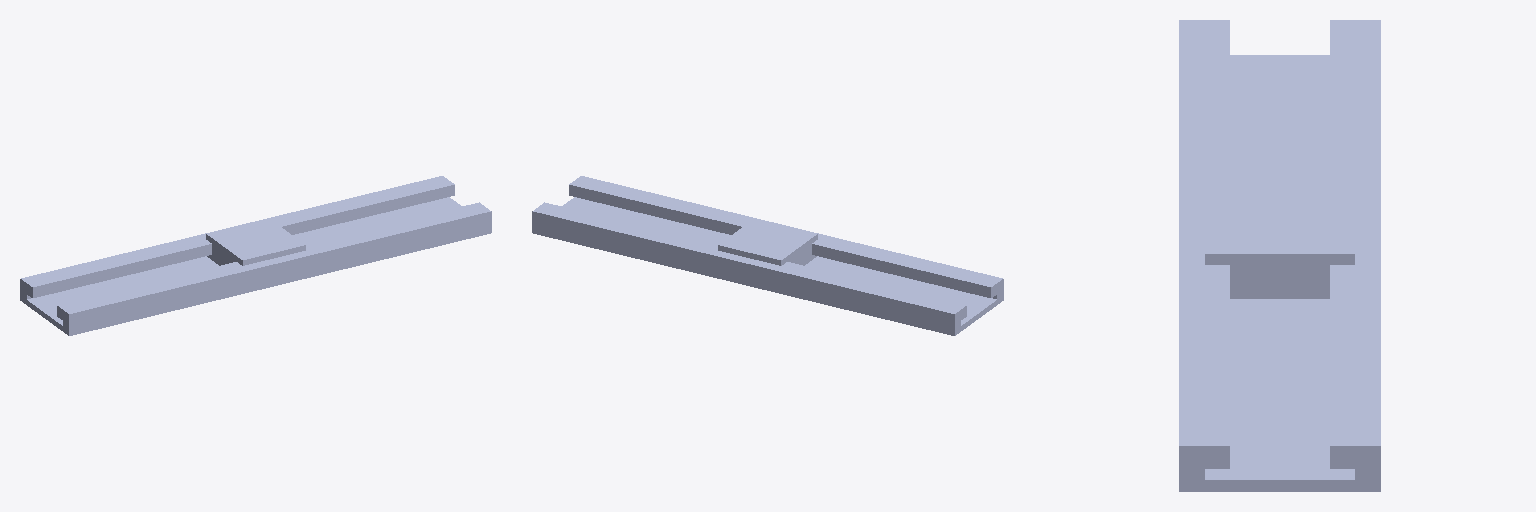
URDF robot description (ur5e_robot):
<?xml version="1.0" ?>
<!-- =================================================================================== -->
<!-- |    This document was autogenerated by xacro from ur_description/urdf/ur5e.xacro | -->
<!-- |    EDITING THIS FILE BY HAND IS NOT RECOMMENDED                                 | -->
<!-- =================================================================================== -->
<robot name="ur5e_robot">
  <!--
    Base UR robot series xacro macro.

    NOTE: this is NOT a URDF. It cannot directly be loaded by consumers
    expecting a flattened '.urdf' file. See the top-level '.xacro' for that
    (but note: that .xacro must still be processed by the xacro command).

    For use in '.launch' files: use one of the 'load_urX.launch' convenience
    launch files.

    This file models the base kinematic chain of a UR robot, which then gets
    parameterised by various configuration files to convert it into a UR3(e),
    UR5(e), UR10(e) or UR16e.

    NOTE: the default kinematic parameters (ie: link lengths, frame locations,
    offets, etc) do not correspond to any particular robot. They are defaults
    only. There WILL be non-zero offsets between the Forward Kinematics results
    in TF (ie: robot_state_publisher) and the values reported by the Teach
    Pendant.

    For accurate (and robot-specific) transforms, the 'kinematics_parameters_file'
    parameter MUST point to a .yaml file containing the appropriate values for
    the targetted robot.

    If using the UniversalRobots/Universal_Robots_ROS_Driver, follow the steps
    described in the readme of that repository to extract the kinematic
    calibration from the controller and generate the required .yaml file.

    Main author of the migration to yaml configs: [author].

    Contributors to previous versions (in no particular order):

     - [author]
     - [author]
     - [author]
     - [author]
     - [author]
     - [author]
     - [author]
     - [author]
     - [author]
     - [author]
     - [author]
     - [author]
     - [author]
     - [author]
     - [author]
     - [author]
     - [author]
  -->
  <!--
    NOTE: the macro defined in this file is NOT part of the public API of this
          package. Users CANNOT rely on this file being available, or stored in
          this location. Nor can they rely on the existence of the macro.
  -->
  <transmission name="shoulder_pan_trans">
    <type>transmission_interface/SimpleTransmission</type>
    <joint name="shoulder_pan_joint">
      <hardwareInterface>hardware_interface/PositionJointInterface</hardwareInterface>
    </joint>
    <actuator name="shoulder_pan_motor">
      <mechanicalReduction>1</mechanicalReduction>
    </actuator>
  </transmission>
  <transmission name="shoulder_lift_trans">
    <type>transmission_interface/SimpleTransmission</type>
    <joint name="shoulder_lift_joint">
      <hardwareInterface>hardware_interface/PositionJointInterface</hardwareInterface>
    </joint>
    <actuator name="shoulder_lift_motor">
      <mechanicalReduction>1</mechanicalReduction>
    </actuator>
  </transmission>
  <transmission name="elbow_trans">
    <type>transmission_interface/SimpleTransmission</type>
    <joint name="elbow_joint">
      <hardwareInterface>hardware_interface/PositionJointInterface</hardwareInterface>
    </joint>
    <actuator name="elbow_motor">
      <mechanicalReduction>1</mechanicalReduction>
    </actuator>
  </transmission>
  <transmission name="wrist_1_trans">
    <type>transmission_interface/SimpleTransmission</type>
    <joint name="wrist_1_joint">
      <hardwareInterface>hardware_interface/PositionJointInterface</hardwareInterface>
    </joint>
    <actuator name="wrist_1_motor">
      <mechanicalReduction>1</mechanicalReduction>
    </actuator>
  </transmission>
  <transmission name="wrist_2_trans">
    <type>transmission_interface/SimpleTransmission</type>
    <joint name="wrist_2_joint">
      <hardwareInterface>hardware_interface/PositionJointInterface</hardwareInterface>
    </joint>
    <actuator name="wrist_2_motor">
      <mechanicalReduction>1</mechanicalReduction>
    </actuator>
  </transmission>
  <transmission name="wrist_3_trans">
    <type>transmission_interface/SimpleTransmission</type>
    <joint name="wrist_3_joint">
      <hardwareInterface>hardware_interface/PositionJointInterface</hardwareInterface>
    </joint>
    <actuator name="wrist_3_motor">
      <mechanicalReduction>1</mechanicalReduction>
    </actuator>
  </transmission>
  
  <!-- Add transmission for base_x joint -->
  <transmission name="base_x_trans">
    <type>transmission_interface/SimpleTransmission</type>
    <joint name="base_x">
      <hardwareInterface>hardware_interface/PositionJointInterface</hardwareInterface>
    </joint>
    <actuator name="base_x_motor">
      <mechanicalReduction>1</mechanicalReduction>
    </actuator>
  </transmission>

  <!-- links: main serial chain -->
  <link name="base_link"/>
  <link name="bs_link">
    <inertial>
      <origin rpy="0 0 0" xyz="1.1102E-16 2.7756E-16 0.043056"/>
      <mass value="45"/>
      <inertia ixx="0.9322" ixy="-1.4174E-16" ixz="5.421E-17" iyy="15.045" iyz="-3.9613E-16" izz="15.888"/>
    </inertial>
    <visual>
      <origin rpy="0 0 0" xyz="0 0 -0.125"/>
      <geometry>
        <mesh filename="meshes/gantry/bs_link.STL"/>
      </geometry>
      <material name="">
        <color rgba="0.79216 0.81961 0.93333 1"/>
      </material>
    </visual>
    <collision>
      <origin rpy="0 0 0" xyz="0 0 -0.125"/>
      <geometry>
        <mesh filename="meshes/gantry/bs_link.STL"/>
      </geometry>
    </collision>
  </link>
  <link name="base_link_x">
    <inertial>
      <origin rpy="0 0 0" xyz="-1.1102E-16 0 -0.05"/>
      <mass value="7.5"/>
      <inertia ixx="0.050938" ixy="-2.7586E-18" ixz="-2.0526E-18" iyy="0.063438" iyz="4.5831E-18" izz="0.1"/>
    </inertial>
    <visual>
      <origin rpy="0 0 0" xyz="0 0 0"/>
      <geometry>
        <mesh filename="meshes/gantry/linear_rail.STL"/>
      </geometry>
      <material name="">
        <color rgba="0.79216 0.81961 0.93333 1"/>
      </material>
    </visual>
    <collision>
      <origin rpy="0 0 0" xyz="0 0 0"/>
      <geometry>
        <mesh filename="meshes/gantry/linear_rail.STL"/>
      </geometry>
    </collision>
  </link>
  <link name="base_link_inertia">
    <visual>
      <origin rpy="0 0 3.141592653589793" xyz="0 0 0"/>
      <geometry>
        <mesh filename="meshes/ur5e/visual/base.dae"/>
      </geometry>
      <material name="LightGrey">
        <color rgba="0.7 0.7 0.7 1.0"/>
      </material>
    </visual>
    <collision>
      <origin rpy="0 0 3.141592653589793" xyz="0 0 0"/>
      <geometry>
        <mesh filename="meshes/ur5e/collision/base.stl"/>
      </geometry>
    </collision>
    <inertial>
      <mass value="4.0"/>
      <origin rpy="0 0 0" xyz="0 0 0"/>
      <inertia ixx="0.00443333156" ixy="0.0" ixz="0.0" iyy="0.00443333156" iyz="0.0" izz="0.0072"/>
    </inertial>
  </link>
  <link name="shoulder_link">
    <visual>
      <origin rpy="0 0 3.141592653589793" xyz="0 0 0"/>
      <geometry>
        <mesh filename="meshes/ur5e/visual/shoulder.dae"/>
      </geometry>
      <material name="LightGrey">
        <color rgba="0.7 0.7 0.7 1.0"/>
      </material>
    </visual>
    <collision>
      <origin rpy="0 0 3.141592653589793" xyz="0 0 0"/>
      <geometry>
        <mesh filename="meshes/ur5e/collision/shoulder.stl"/>
      </geometry>
    </collision>
    <inertial>
      <mass value="3.7"/>
      <origin rpy="0 0 0" xyz="0 0 0"/>
      <inertia ixx="0.010267495893" ixy="0.0" ixz="0.0" iyy="0.010267495893" iyz="0.0" izz="0.00666"/>
    </inertial>
  </link>
  <link name="upper_arm_link">
    <visual>
      <origin rpy="1.5707963267948966 0 -1.5707963267948966" xyz="0 0 0.138"/>
      <geometry>
        <mesh filename="meshes/ur5e/visual/upperarm.dae"/>
      </geometry>
      <material name="LightGrey">
        <color rgba="0.7 0.7 0.7 1.0"/>
      </material>
    </visual>
    <collision>
      <origin rpy="1.5707963267948966 0 -1.5707963267948966" xyz="0 0 0.138"/>
      <geometry>
        <mesh filename="meshes/ur5e/collision/upperarm.stl"/>
      </geometry>
    </collision>
    <inertial>
      <mass value="8.393"/>
      <origin rpy="0 1.5707963267948966 0" xyz="-0.2125 0.0 0.138"/>
      <inertia ixx="0.1338857818623325" ixy="0.0" ixz="0.0" iyy="0.1338857818623325" iyz="0.0" izz="0.0151074"/>
    </inertial>
  </link>
  <link name="forearm_link">
    <visual>
      <origin rpy="1.5707963267948966 0 -1.5707963267948966" xyz="0 0 0.007"/>
      <geometry>
        <mesh filename="meshes/ur5e/visual/forearm.dae"/>
      </geometry>
      <material name="LightGrey">
        <color rgba="0.7 0.7 0.7 1.0"/>
      </material>
    </visual>
    <collision>
      <origin rpy="1.5707963267948966 0 -1.5707963267948966" xyz="0 0 0.007"/>
      <geometry>
        <mesh filename="meshes/ur5e/collision/forearm.stl"/>
      </geometry>
    </collision>
    <inertial>
      <mass value="2.275"/>
      <origin rpy="0 1.5707963267948966 0" xyz="-0.1961 0.0 0.007"/>
      <inertia ixx="0.031209355099586295" ixy="0.0" ixz="0.0" iyy="0.031209355099586295" iyz="0.0" izz="0.004095"/>
    </inertial>
  </link>
  <link name="wrist_1_link">
    <visual>
      <!-- TODO: Move this to a parameter -->
      <origin rpy="1.5707963267948966 0 0" xyz="0 0 -0.127"/>
      <geometry>
        <mesh filename="meshes/ur5e/visual/wrist1.dae"/>
      </geometry>
      <material name="LightGrey">
        <color rgba="0.7 0.7 0.7 1.0"/>
      </material>
    </visual>
    <collision>
      <origin rpy="1.5707963267948966 0 0" xyz="0 0 -0.127"/>
      <geometry>
        <mesh filename="meshes/ur5e/collision/wrist1.stl"/>
      </geometry>
    </collision>
    <inertial>
      <mass value="1.219"/>
      <origin rpy="0 0 0" xyz="0 0 0"/>
      <inertia ixx="0.0025598989760400002" ixy="0.0" ixz="0.0" iyy="0.0025598989760400002" iyz="0.0" izz="0.0021942"/>
    </inertial>
  </link>
  <link name="wrist_2_link">
    <visual>
      <origin rpy="0 0 0" xyz="0 0 -0.0997"/>
      <geometry>
        <mesh filename="meshes/ur5e/visual/wrist2.dae"/>
      </geometry>
      <material name="LightGrey">
        <color rgba="0.7 0.7 0.7 1.0"/>
      </material>
    </visual>
    <collision>
      <origin rpy="0 0 0" xyz="0 0 -0.0997"/>
      <geometry>
        <mesh filename="meshes/ur5e/collision/wrist2.stl"/>
      </geometry>
    </collision>
    <inertial>
      <mass value="1.219"/>
      <origin rpy="0 0 0" xyz="0 0 0"/>
      <inertia ixx="0.0025598989760400002" ixy="0.0" ixz="0.0" iyy="0.0025598989760400002" iyz="0.0" izz="0.0021942"/>
    </inertial>
  </link>
  <link name="wrist_3_link">
    <visual>
      <origin rpy="1.5707963267948966 0 0" xyz="0 0 -0.0989"/>
      <geometry>
        <mesh filename="meshes/ur5e/visual/wrist3.dae"/>
      </geometry>
      <material name="LightGrey">
        <color rgba="0.7 0.7 0.7 1.0"/>
      </material>
    </visual>
    <collision>
      <origin rpy="1.5707963267948966 0 0" xyz="0 0 -0.0989"/>
      <geometry>
        <mesh filename="meshes/ur5e/collision/wrist3.stl"/>
      </geometry>
    </collision>
    <inertial>
      <mass value="0.1879"/>
      <origin rpy="0 0 0" xyz="0.0 0.0 -0.0229"/>
      <inertia ixx="9.890410052167731e-05" ixy="0.0" ixz="0.0" iyy="9.890410052167731e-05" iyz="0.0" izz="0.0001321171875"/>
    </inertial>
  </link>

  <!-- joints: main serial chain -->
  <joint name="base" type="fixed">
    <origin rpy="0 0 0.0" xyz="0 0 0"/>
    <parent link="base_link"/>
    <child link="bs_link"/>
    <axis xyz="0 0 0"/>
  </joint>

  <joint name="base_x" type="prismatic">
    <origin rpy="0 0 0.0" xyz="0 0 0.0"/>
    <parent link="bs_link"/>
    <child link="base_link_x"/>
    <axis xyz="1 0 0"/>
    <dynamics damping="10.0"/>
    <limit effort="87" lower="-1.0" upper="1.0" velocity="1.0"/>
  </joint>

  <joint name="base_fixed" type="fixed">
    <origin rpy="0 0 0.0" xyz="0 0 0"/>
    <parent link="base_link_x"/>
    <child link="base_link_inertia"/>
    <axis xyz="0 0 0"/>
  </joint>

  <joint name="shoulder_pan_joint" type="revolute">
    <parent link="base_link_inertia"/>
    <child link="shoulder_link"/>
    <origin rpy="0 0 0" xyz="0 0 0.1625"/>
    <axis xyz="0 0 1"/>
    <limit effort="150.0" lower="-6.283185307179586" upper="6.283185307179586" velocity="3.141592653589793"/>
    <dynamics damping="0" friction="0"/>
  </joint>
  <joint name="shoulder_lift_joint" type="revolute">
    <parent link="shoulder_link"/>
    <child link="upper_arm_link"/>
    <origin rpy="1.570796327 0 0" xyz="0 0 0"/>
    <axis xyz="0 0 1"/>
    <limit effort="150.0" lower="-6.283185307179586" upper="6.283185307179586" velocity="3.141592653589793"/>
    <dynamics damping="0" friction="0"/>
  </joint>
  <joint name="elbow_joint" type="revolute">
    <parent link="upper_arm_link"/>
    <child link="forearm_link"/>
    <origin rpy="0 0 0" xyz="-0.425 0 0"/>
    <axis xyz="0 0 1"/>
    <limit effort="150.0" lower="-3.141592653589793" upper="3.141592653589793" velocity="3.141592653589793"/>
    <dynamics damping="0" friction="0"/>
  </joint>
  <joint name="wrist_1_joint" type="revolute">
    <parent link="forearm_link"/>
    <child link="wrist_1_link"/>
    <origin rpy="0 0 0" xyz="-0.3922 0 0.1333"/>
    <axis xyz="0 0 1"/>
    <limit effort="28.0" lower="-6.283185307179586" upper="6.283185307179586" velocity="3.141592653589793"/>
    <dynamics damping="0" friction="0"/>
  </joint>
  <joint name="wrist_2_joint" type="revolute">
    <parent link="wrist_1_link"/>
    <child link="wrist_2_link"/>
    <origin rpy="1.570796327 0 0" xyz="0 -0.0997 -2.044881182297852e-11"/>
    <axis xyz="0 0 1"/>
    <limit effort="28.0" lower="-6.283185307179586" upper="6.283185307179586" velocity="3.141592653589793"/>
    <dynamics damping="0" friction="0"/>
  </joint>
  <joint name="wrist_3_joint" type="revolute">
    <parent link="wrist_2_link"/>
    <child link="wrist_3_link"/>
    <origin rpy="1.570796326589793 3.141592653589793 3.141592653589793" xyz="0 0.0996 -2.042830148012698e-11"/>
    <axis xyz="0 0 1"/>
    <limit effort="28.0" lower="-6.283185307179586" upper="6.283185307179586" velocity="3.141592653589793"/>
    <dynamics damping="0" friction="0"/>
  </joint>
  <!-- ROS-Industrial 'base' frame: base_link to UR 'Base' Coordinates transform -->
  <link name="base"/>
  <joint name="base_link-base_fixed_joint" type="fixed">
    <!-- Note the rotation over Z of pi radians: as base_link is REP-103
           aligned (ie: has X+ forward, Y+ left and Z+ up), this is needed
           to correctly align 'base' with the 'Base' coordinate system of
           the UR controller.
      -->
    <origin rpy="0 0 3.141592653589793" xyz="0 0 0"/>
    <parent link="base_link"/>
    <child link="base"/>
  </joint>
  <!-- ROS-Industrial 'flange' frame: attachment point for EEF models -->
  <link name="flange"/>
  <joint name="wrist_3-flange" type="fixed">
    <parent link="wrist_3_link"/>
    <child link="flange"/>
    <origin rpy="0 -1.5707963267948966 -1.5707963267948966" xyz="0 0 0"/>
  </joint>
  <!-- ROS-Industrial 'tool0' frame: all-zeros tool frame -->
  <link name="tool0"/>
  <joint name="flange-tool0" type="fixed">
    <!-- default toolframe: X+ left, Y+ up, Z+ front -->
    <origin rpy="1.5707963267948966 0 1.5707963267948966" xyz="0 0 0"/>
    <parent link="flange"/>
    <child link="tool0"/>
  </joint>
</robot>

--- What the picture shows (computed from the rendered views, not written in the file) ---
3 views of the same robot in one strip: view 1: azimuth 30°, elevation 25°; view 2: azimuth 150°, elevation 25°; view 3: azimuth 270°, elevation 25° (orthographic).
Model ur5e_robot with 13 links and 12 joints (6 revolute, 1 prismatic, 5 fixed), rooted at base_link, posed every joint at zero.
Links seen in each view (by area): view 1: bs_link, base_link_x; view 2: bs_link, base_link_x; view 3: bs_link, base_link_x.
Link boxes in pixels (left/top/right/bottom): bs_link: left=20, top=176, right=491, bottom=335; base_link_x: left=206, top=218, right=305, bottom=265; bs_link: left=532, top=176, right=1003, bottom=335; base_link_x: left=718, top=218, right=817, bottom=265; bs_link: left=1179, top=20, right=1380, bottom=491; base_link_x: left=1205, top=190, right=1354, bottom=298.
Size in the robot's own frame: 2 by 0.4 by 0.125 metres.
2 mesh visuals loaded from 9 distinct referenced files (2 binary STL); not drawn: 7 (reference not matched to a file when rendering).